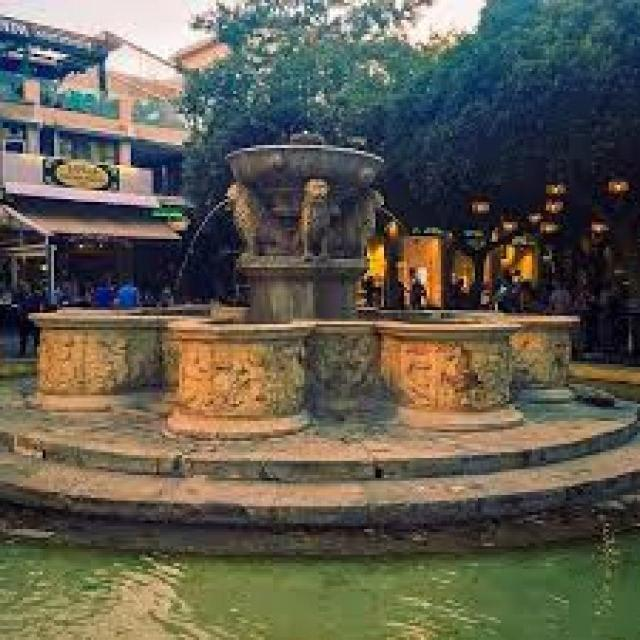Liontaria: (31, 142, 579, 439)
